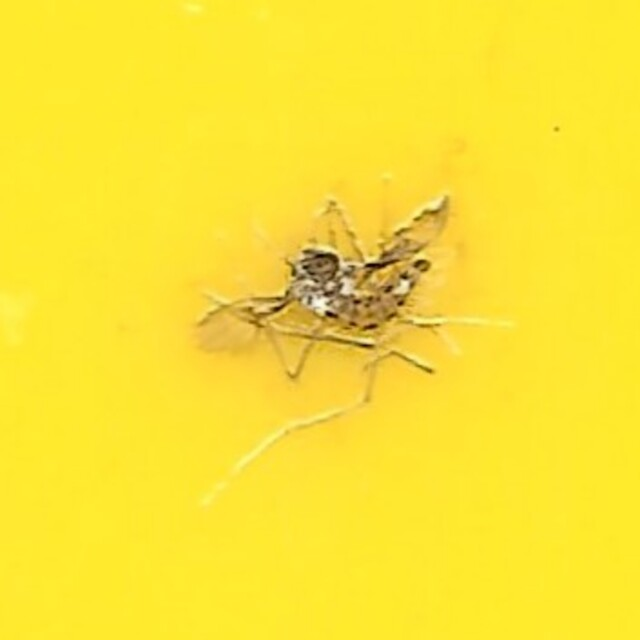Nematocera: (181, 188, 459, 452)
